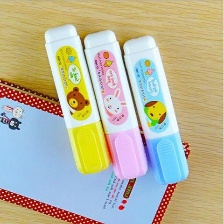correction_fluid: (77, 28, 150, 184), (118, 32, 190, 187), (41, 22, 112, 179)
